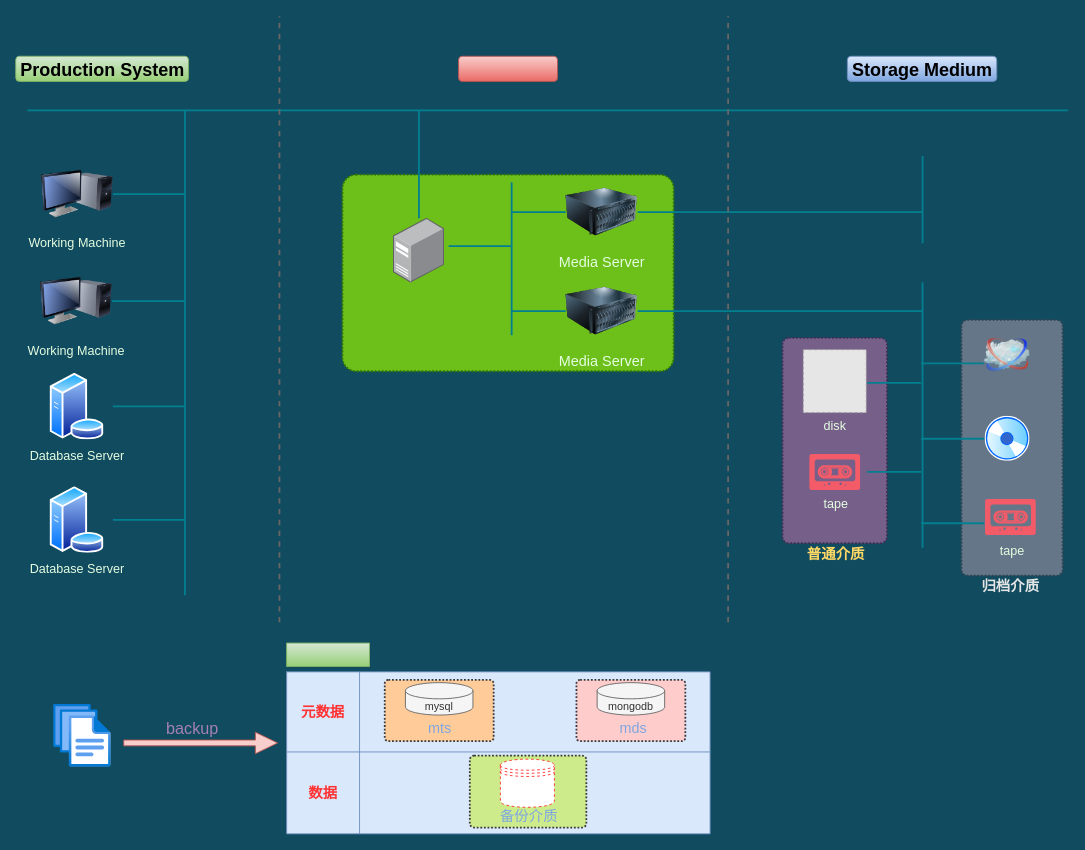
Image size: 1085x850. Some labels were removed from this diagram. Grey dashed boxes stand in for pictures. The shapes that lost their labels are listed below. From the top down, each one's centre as x and y in pixels, then its label:
At point 508,68: "Blackcube".
At point 418,250: "Master Server".
At point 1006,354: "cloud".
At point 1007,438: "CD".
At point 327,654: "backupset".
At point 82,735: "source data".
